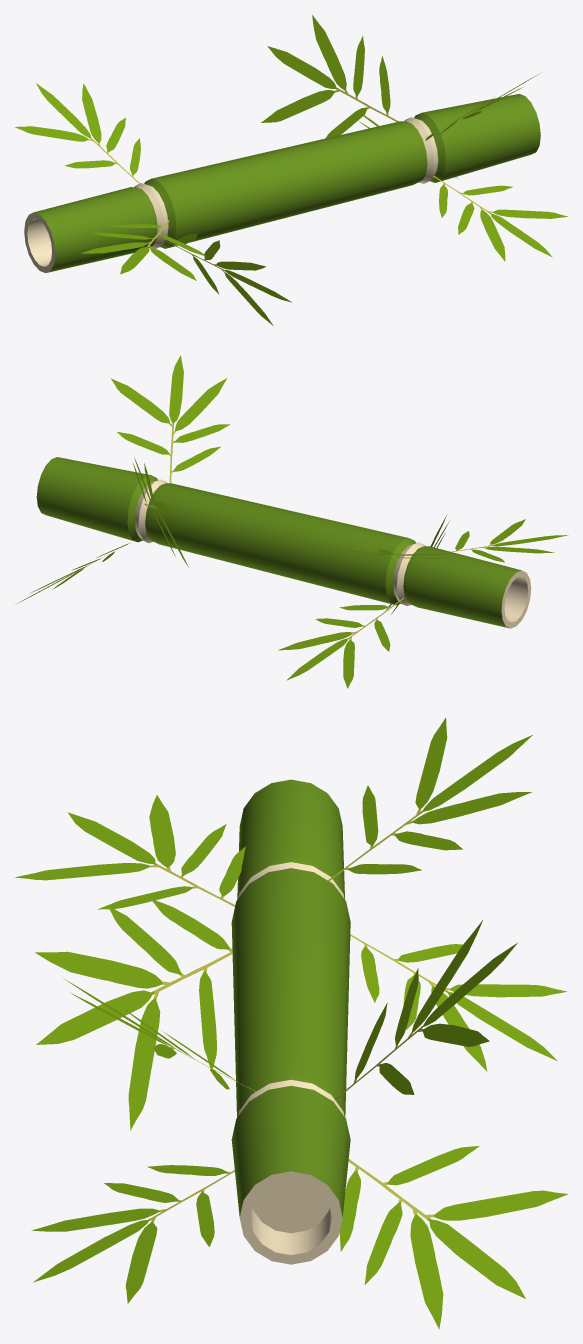
Rendered from Bamboo.fbx.
3 views of the same model, one above another, from view 1: azimuth 30°, elevation 25°; view 2: azimuth 150°, elevation 25°; view 3: azimuth 270°, elevation 25° (orthographic). The views are drawn at different scales.
Visible parts, largest first — view 1: Bamboo, Bamboo_Leaves; view 2: Bamboo, Bamboo_Leaves; view 3: Bamboo, Bamboo_Leaves.
Part boxes in pixels (<box>): Bamboo: <box>24,94,540,272</box>; Bamboo_Leaves: <box>14,15,567,325</box>; Bamboo: <box>36,457,531,628</box>; Bamboo_Leaves: <box>17,355,568,688</box>; Bamboo: <box>231,779,350,1264</box>; Bamboo_Leaves: <box>14,717,568,1329</box>.
Bounding box in the file's own units: 90.06 × 35.21 × 53.88.
